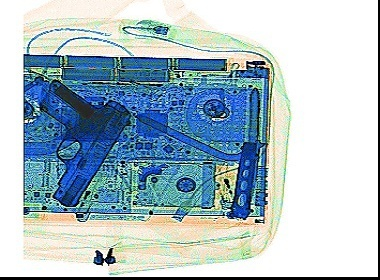knife: (223, 137, 260, 220)
lighter: (206, 158, 241, 212), (73, 168, 108, 222)
